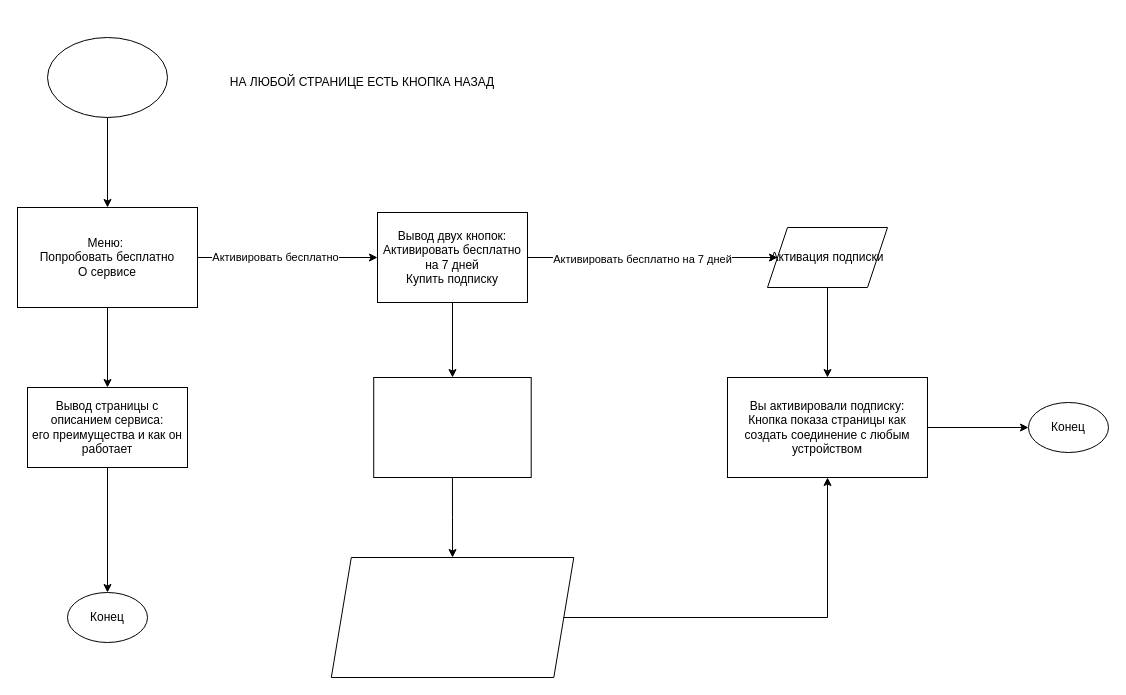
Image size: 1126x695. Some labels were removed from this diagram. Here are the shapes that lost their labels. From the top down, the centre of each, then its label:
point 107,77: Начало /start
point 452,427: Вывод кнопок: 1 месяц - 150 рублей 6 месяцев - 800
point 452,617: Создается чек на оплату. И человека переводит на сайт оплаты
